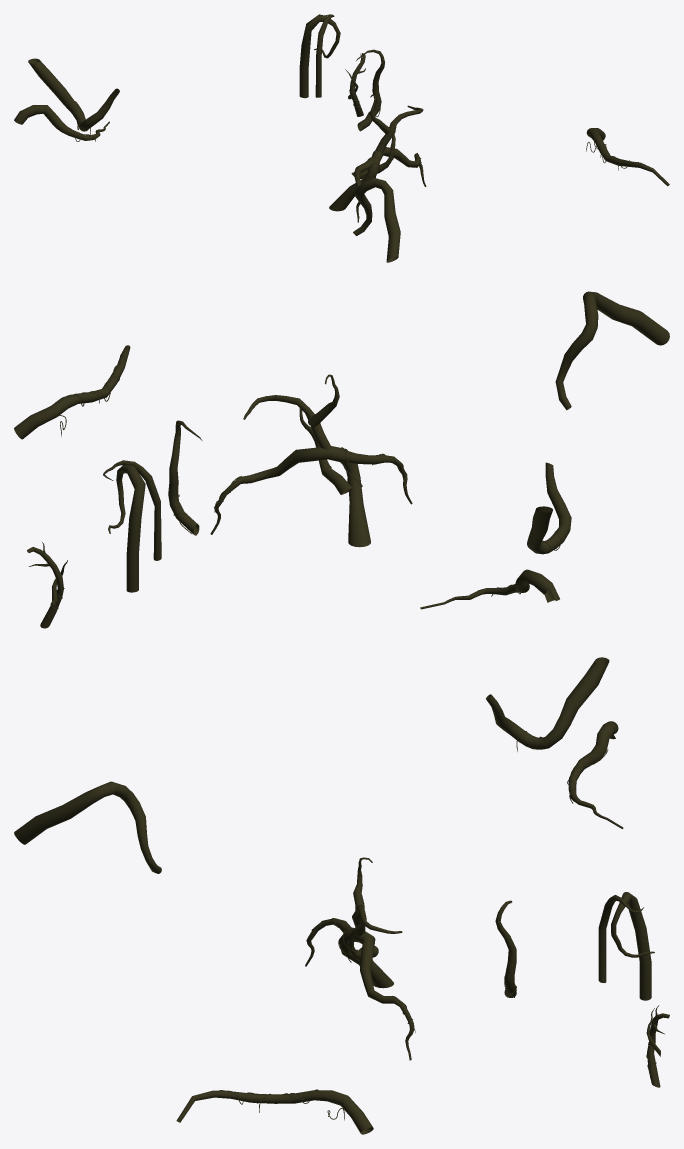
The model's file is 6_zOutsideEnhancements_Vines.FBX.
The picture shows the model from 3 angles, top to bottom: view 1: azimuth 30°, elevation 25°; view 2: azimuth 150°, elevation 25°; view 3: azimuth 270°, elevation 25°; orthographic projection. The views are drawn at different scales.
Parts seen in each view (by area): view 1: Roots; view 2: Roots; view 3: Roots.
Boxes of the visible parts, left/top/right/bottom form: Roots: left=14, top=14, right=669, bottom=262; Roots: left=14, top=291, right=669, bottom=628; Roots: left=14, top=657, right=669, bottom=1134.
Size of the model in its own units: 3333 by 1002 by 2917.
